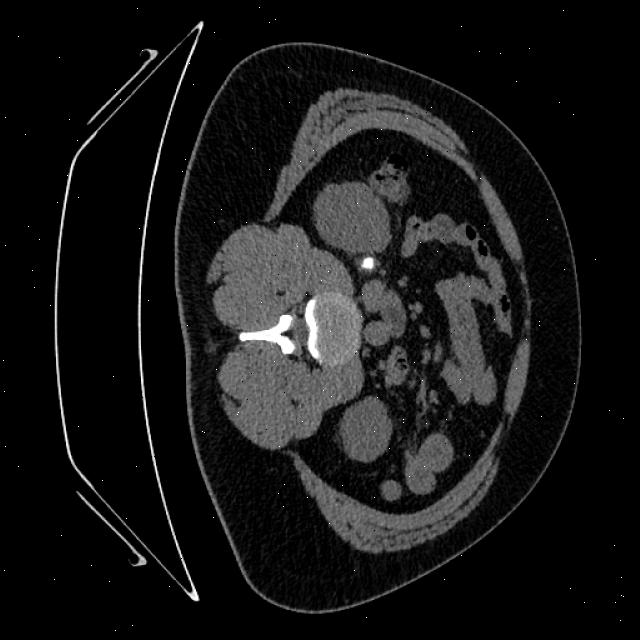kidneystone: (361, 258, 374, 270)
